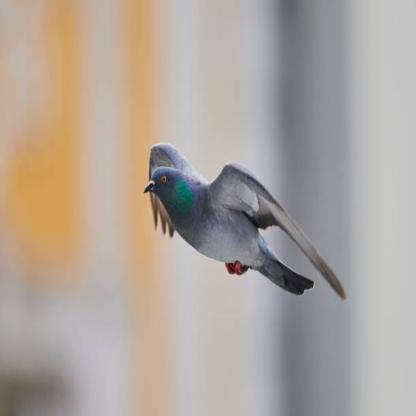Rock Pigeon: (143, 148, 311, 294)
